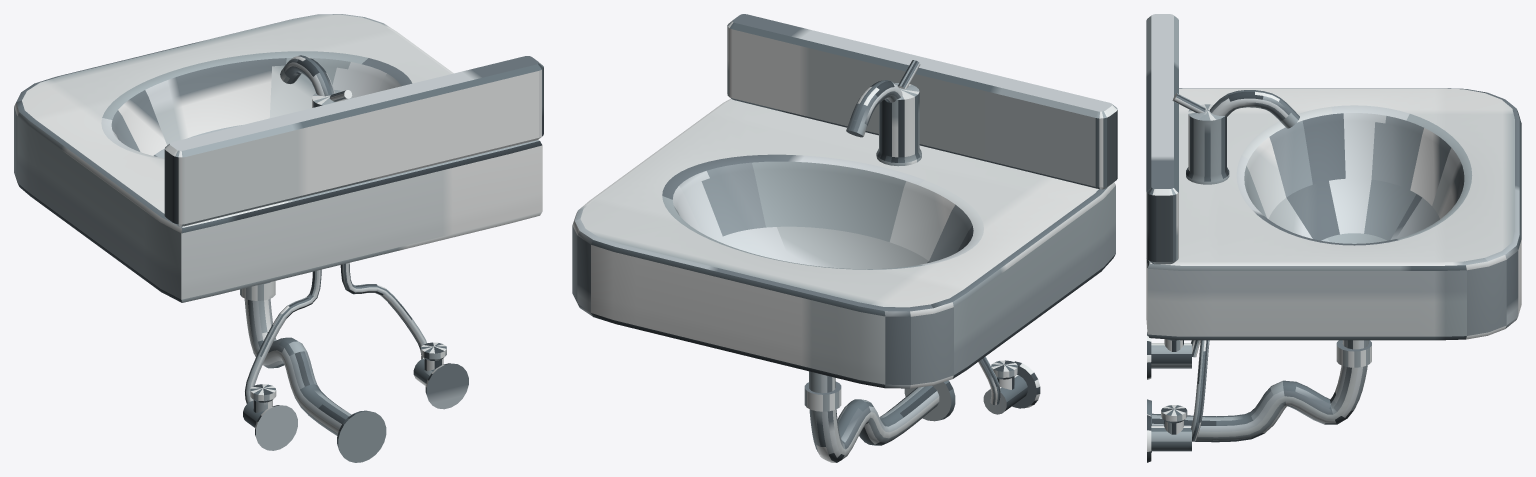
The model's file is commercial_wall_mounted_sink.obj.
The picture shows the model from 3 angles, left to right: view 1: azimuth 30°, elevation 25°; view 2: azimuth 150°, elevation 25°; view 3: azimuth 270°, elevation 25°; orthographic projection. The views are drawn at different scales.
Visible parts, largest first — view 1: basin, backsplash, fittings, arm_escutcheon, stop_escutcheon_r, stop_escutcheon_l, supply_l, supply_r, stop_r, stop_l; view 2: basin, backsplash, fittings, stop_l, arm_escutcheon, stop_escutcheon_l; view 3: basin, fittings, backsplash, stop_r, stop_l, supply_r.
Boxes of the visible parts, x1,y1,x2,y2 form: basin: [14, 14, 542, 302]; backsplash: [164, 56, 543, 226]; fittings: [240, 55, 352, 435]; arm_escutcheon: [337, 410, 386, 462]; stop_escutcheon_r: [425, 363, 468, 409]; stop_escutcheon_l: [255, 405, 297, 450]; supply_l: [245, 269, 321, 403]; supply_r: [340, 263, 426, 359]; stop_r: [413, 342, 446, 386]; stop_l: [243, 384, 276, 427]; basin: [572, 99, 1115, 388]; backsplash: [727, 14, 1117, 189]; fittings: [804, 60, 939, 462]; stop_l: [983, 360, 1027, 414]; arm_escutcheon: [904, 380, 955, 421]; stop_escutcheon_l: [1012, 361, 1040, 408]; basin: [1146, 88, 1521, 340]; fittings: [1152, 90, 1371, 442]; backsplash: [1146, 14, 1178, 264]; stop_r: [1151, 405, 1191, 451]; stop_l: [1151, 339, 1191, 368]; supply_r: [1191, 340, 1209, 441].
Size of the model in its own units: 0.52 by 0.4886 by 0.46.
